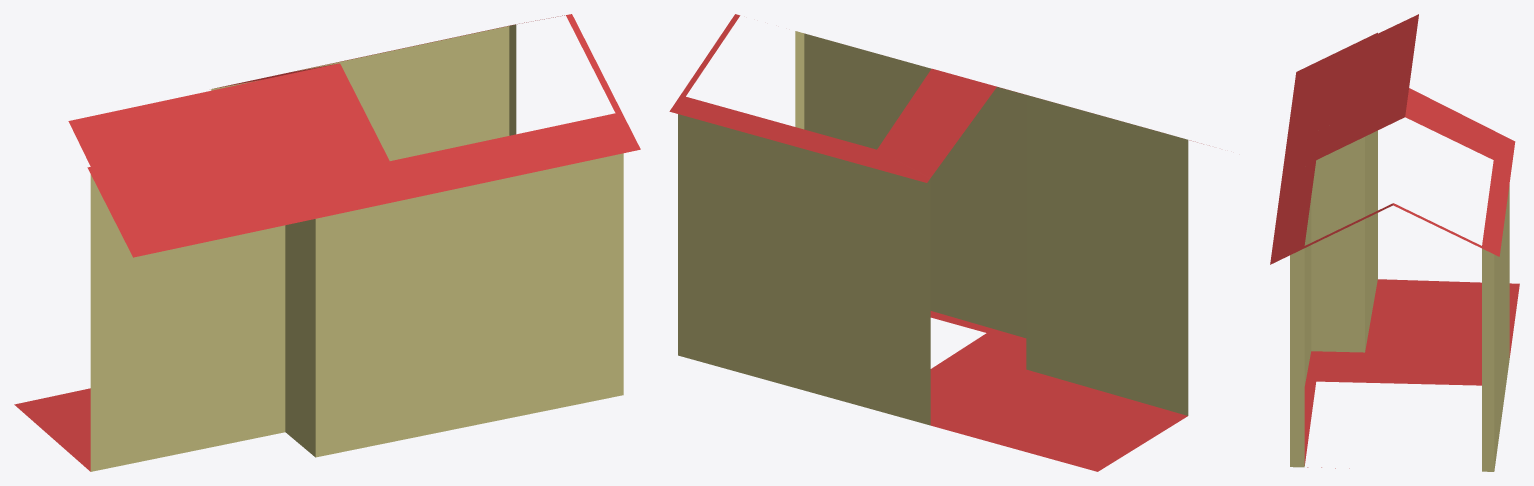
3 renders of one model, left to right at view 1: azimuth 30°, elevation 25°; view 2: azimuth 150°, elevation 25°; view 3: azimuth 270°, elevation 25°, orthographic. The views are drawn at different scales.
Bounding box in the file's own units: 20.93 × 11.13 × 13.1.
